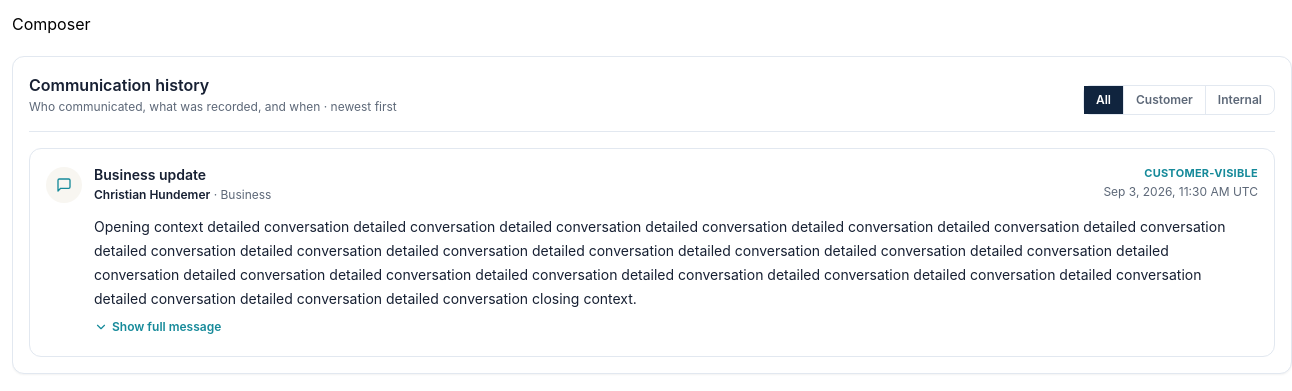
Test: RequestCommunicationsWorkspace › collapses long messages and expands the complete content in place
Click the button "Show full message". click: (158, 327)
box: [94,319,221,335]
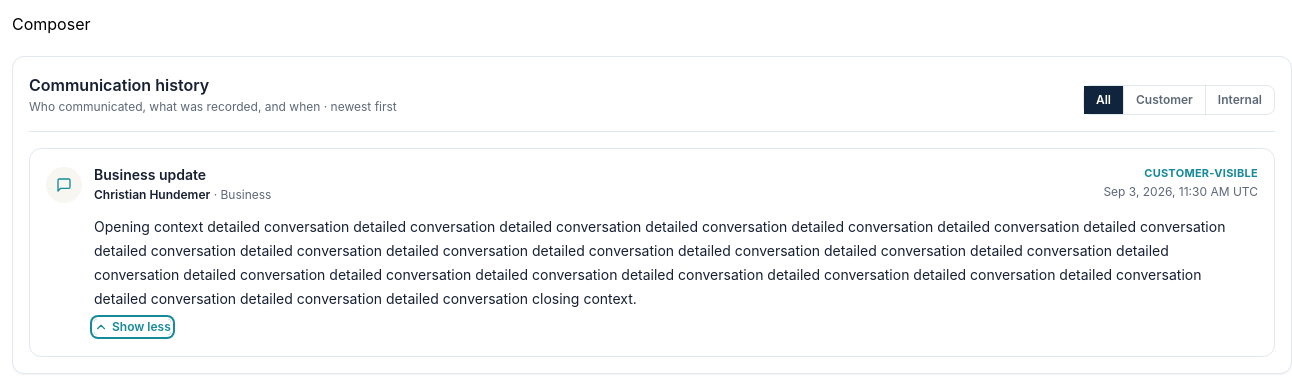
Result: the button "Show less" is expanded at [94,319,171,335]
